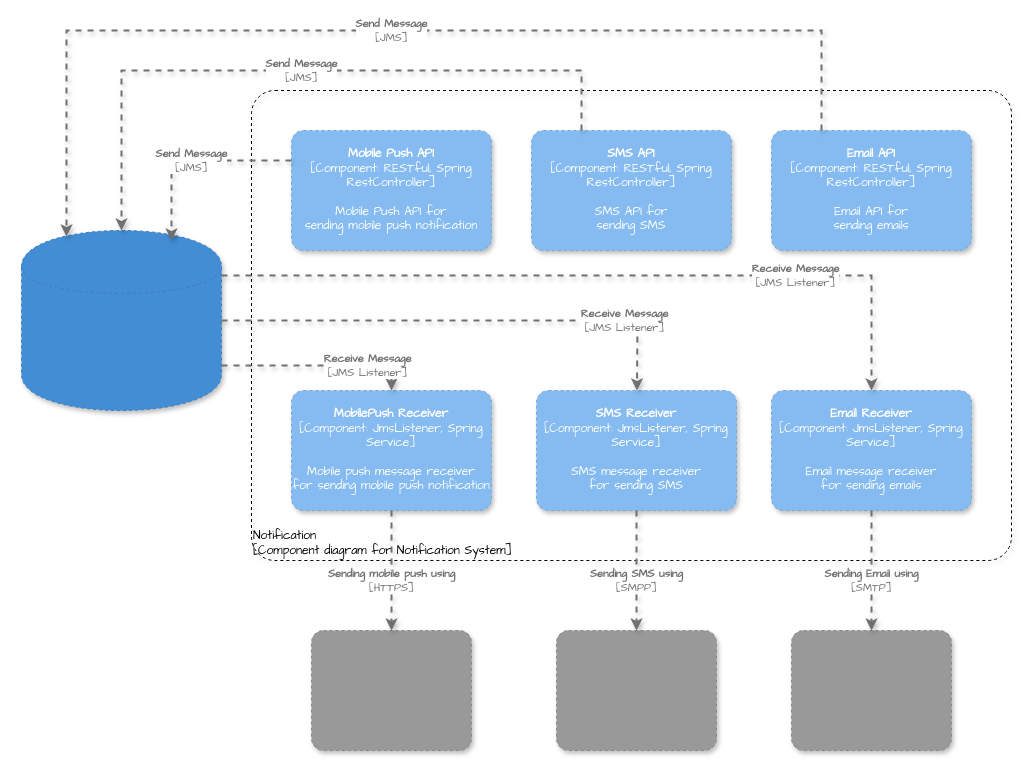
This 1035x775 diagram has some shape labels left out. Each missing label, with the centre of its shape:
"ActiveMQ [Container: JMS/ActiveMQ] Message broker that implements JMS" belongs at pixel 122 322.
"E-mail System [Software System] Microsoft Exchange email system" belongs at pixel 872 692.
"Firebase [Software System] a cross-platform messaging solution" belongs at pixel 392 692.
"SMS Gateway [Software System] Service Provider(Vodafone, Orange..etc)" belongs at pixel 637 692.
